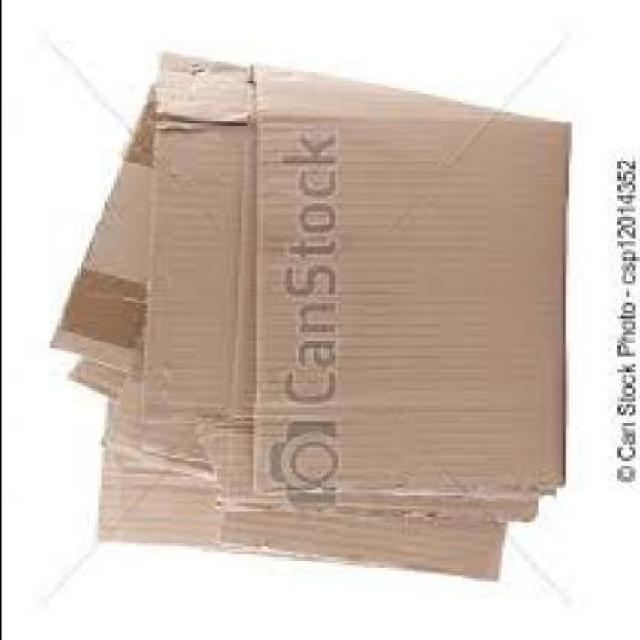CARDBOARD: (209, 78, 534, 524), (245, 69, 567, 503), (91, 412, 500, 578), (128, 56, 260, 482), (46, 91, 152, 409)
